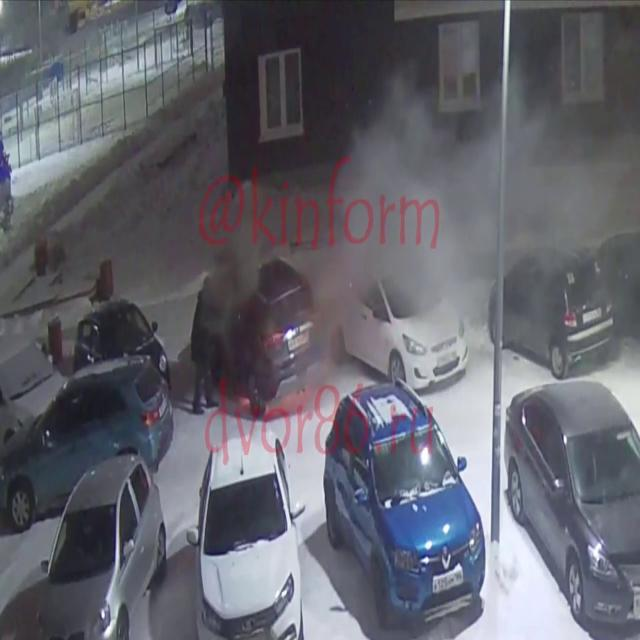Smoke: (310, 22, 640, 366)
